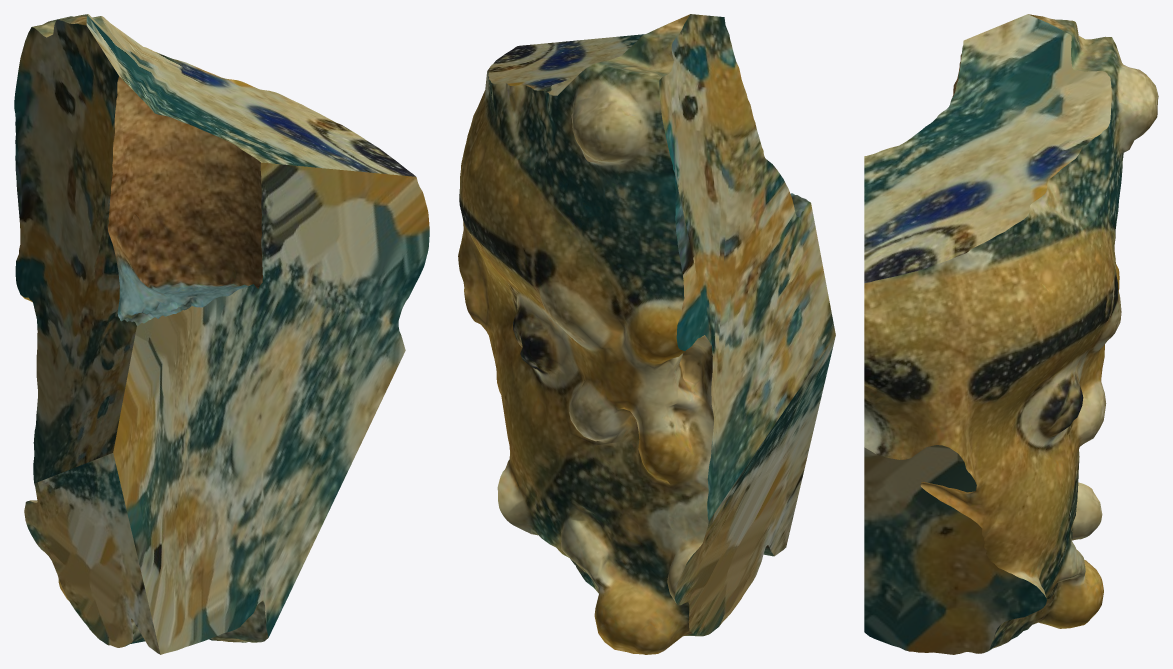
3 renders of one model, left to right at view 1: azimuth 30°, elevation 25°; view 2: azimuth 150°, elevation 25°; view 3: azimuth 270°, elevation 25°, orthographic. The views are drawn at different scales.
Visible parts, largest first — view 1: Mesh_0.003; view 2: Mesh_0.003; view 3: Mesh_0.003.
Part boxes in pixels (x1,y1,x2,y2): Mesh_0.003: (14,14,429,654); Mesh_0.003: (458,14,835,654); Mesh_0.003: (864,14,1158,654).
Size of the model in its own units: 0.0606 by 0.11 by 0.0493.
Materials: 1 (1 with a texture image).
